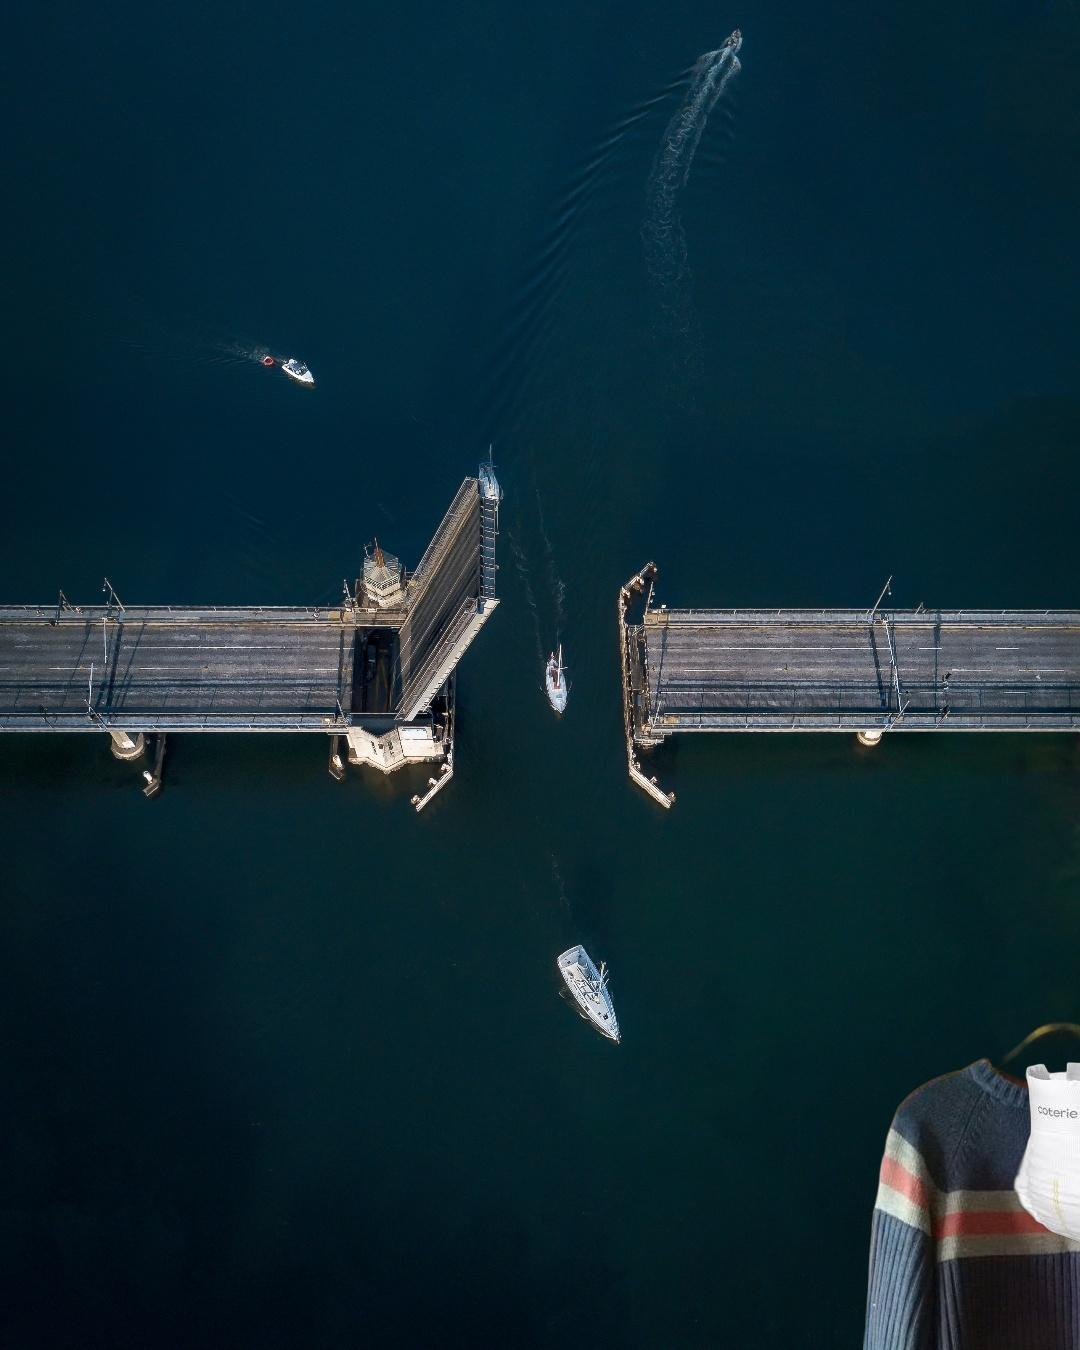clothes: (863, 1003, 1080, 1350)
trash: (1008, 1049, 1080, 1259)
